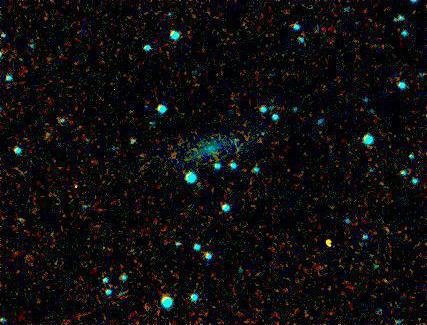star: (313, 229, 343, 259)
